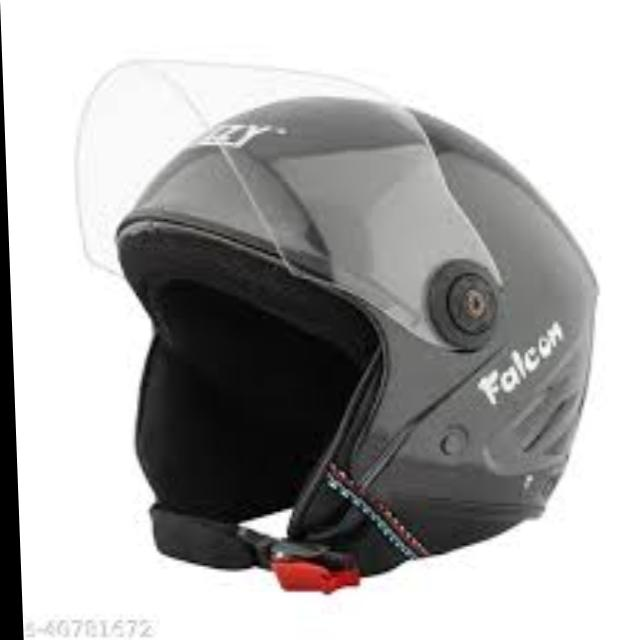motorcycle-helmets: (68, 55, 624, 595)
